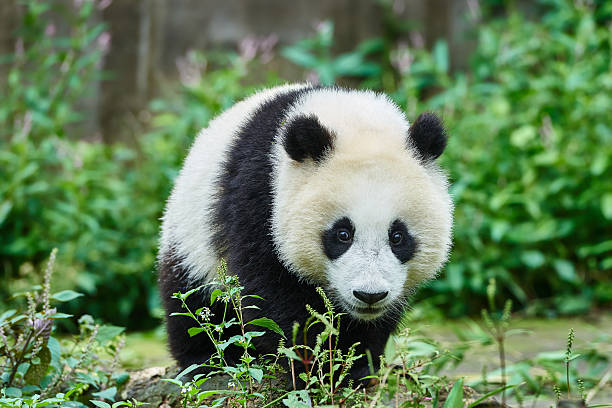panda: (255, 74, 491, 351)
